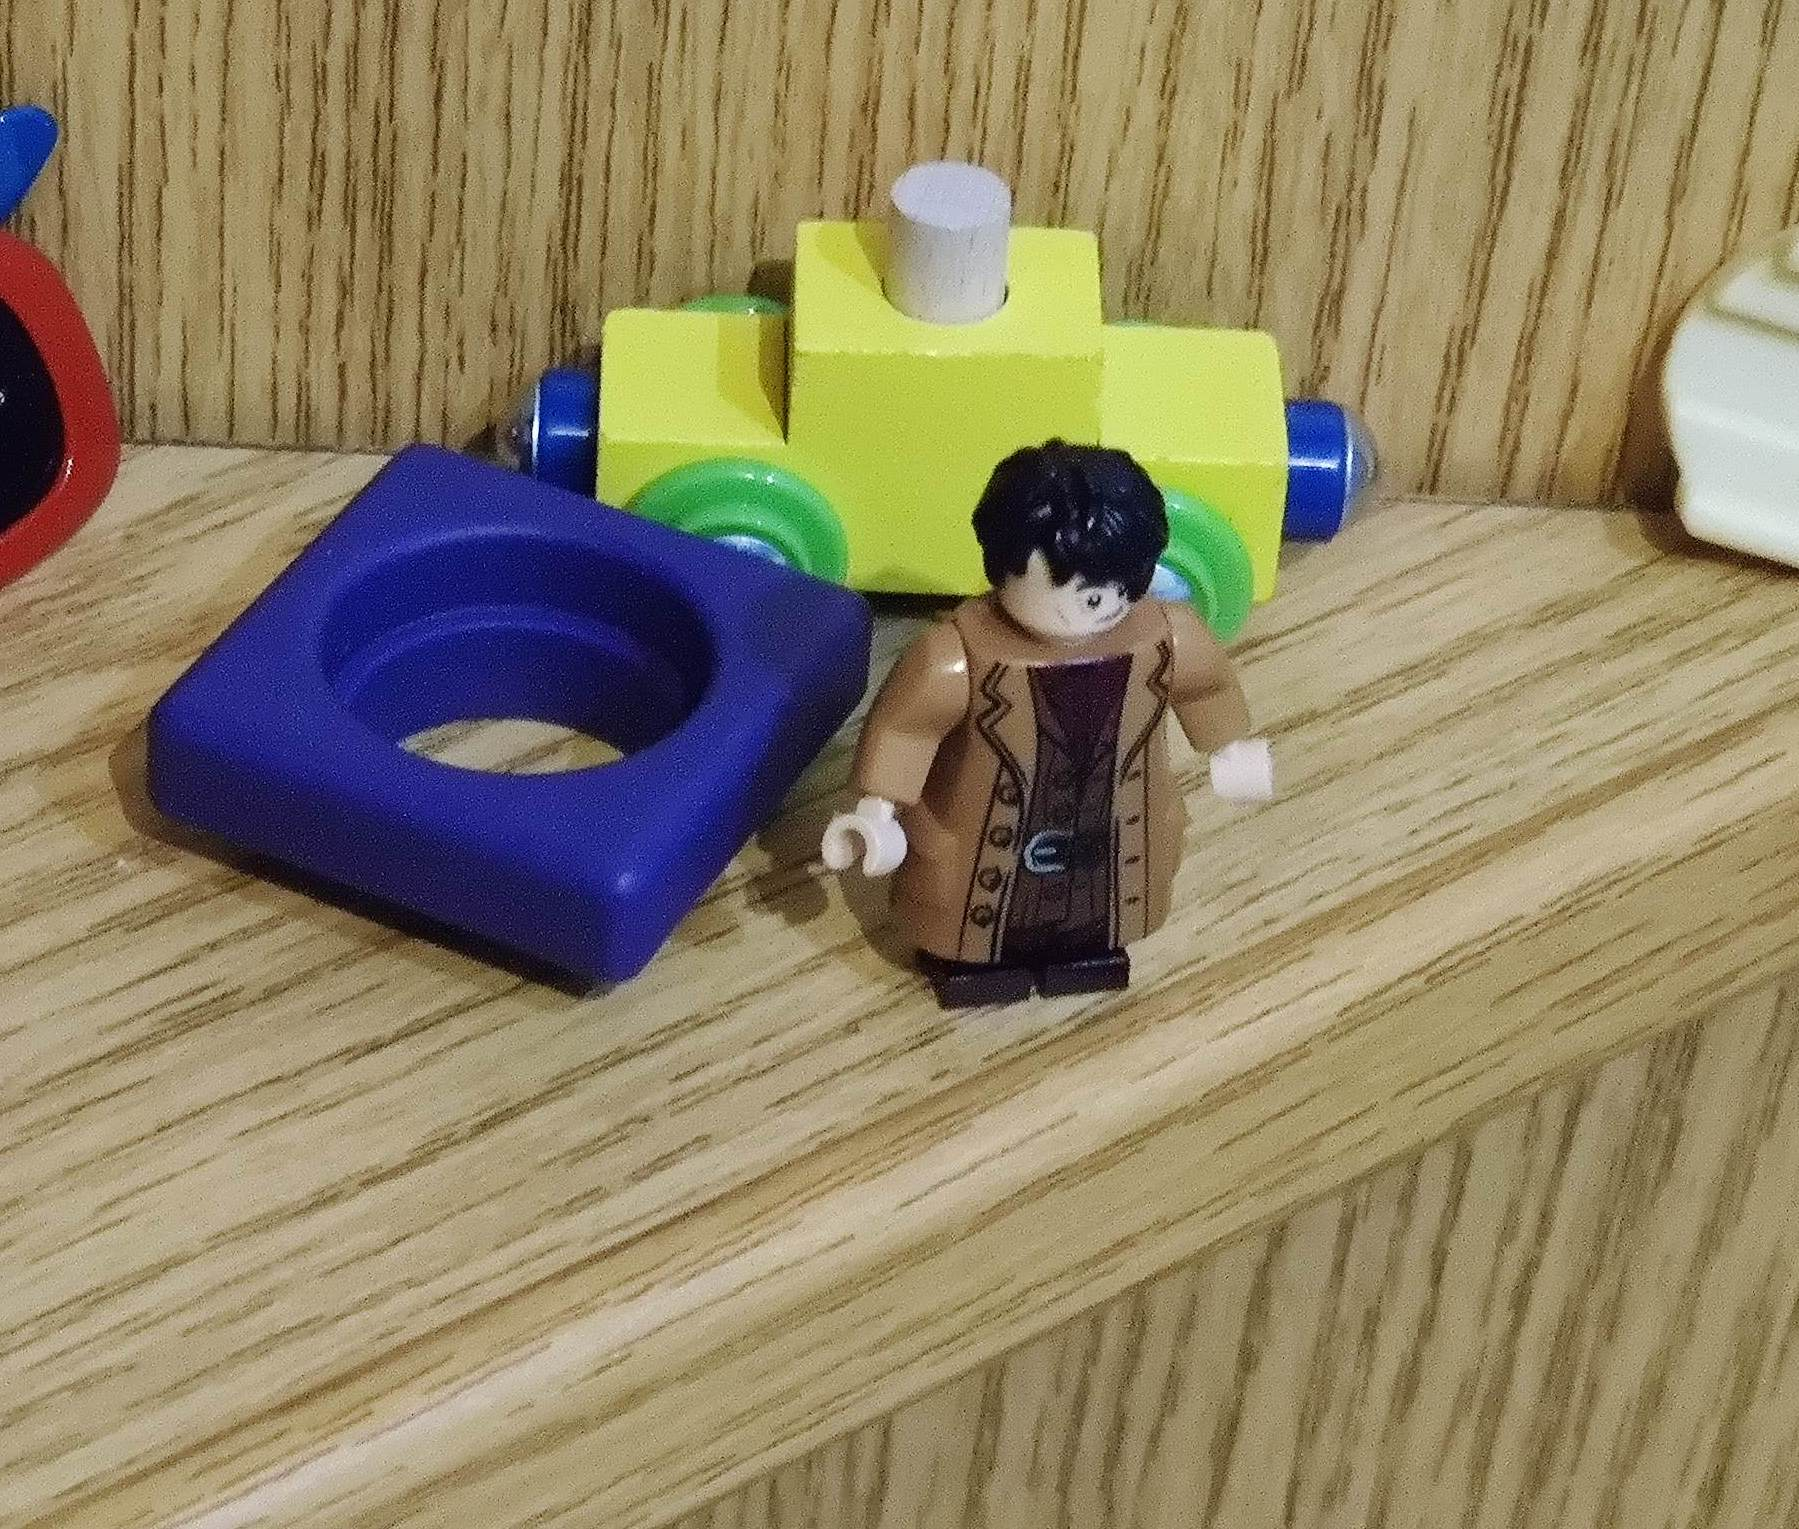lego: (818, 435, 1279, 1021)
